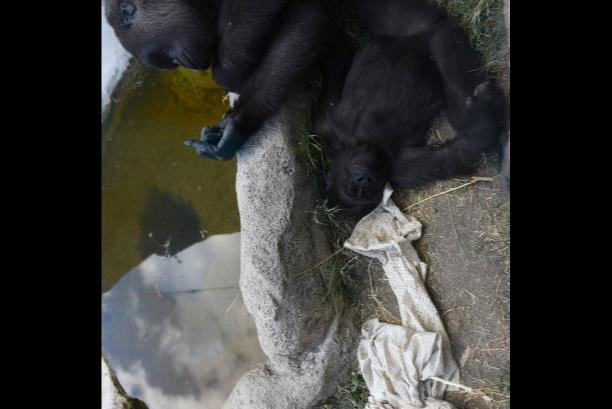gorille_Autres: (101, 0, 462, 108)
